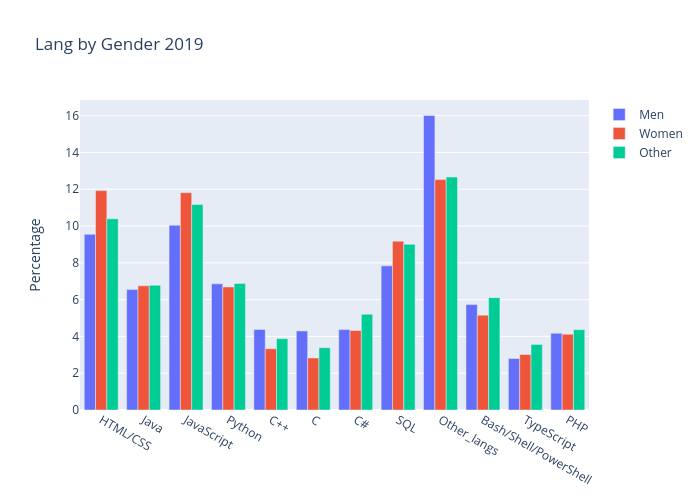

The dashboard page shown, as its layout file describes it:
{"tool":"powerbi","page":{"name":"2019","canvas":[1280,720],"ordinal":0},"visuals":[{"type":"clusteredColumnChart","fields":{"Category":["Worksheet.Gender"],"Y":["Sum(Worksheet.Assembly)","Sum(Worksheet.Bash/Shell/PowerShell)","Sum(Worksheet.C)","Sum(Worksheet.C#)","Sum(Worksheet.C++)","Sum(Worksheet.Clojure)","Sum(Worksheet.Dart)","Sum(Worksheet.Elixir)","Sum(Worksheet.Erlang)","Sum(Worksheet.F#)","Sum(Worksheet.Go)","Sum(Worksheet.HTML/CSS)"]},"box":[0,49.4,1280,670.2],"z":0}]}

Visuals, with their boxes on the page's 1280x720 design canvas (x1, y1, x2, y2). These are canvas units, not pixel positions in the 700x500 screenshot, which may show the page scaled, cropped or inside an application window:
clusteredColumnChart - Worksheet.Gender x Sum(Worksheet.Assembly): BBox(0, 49, 1280, 720)
